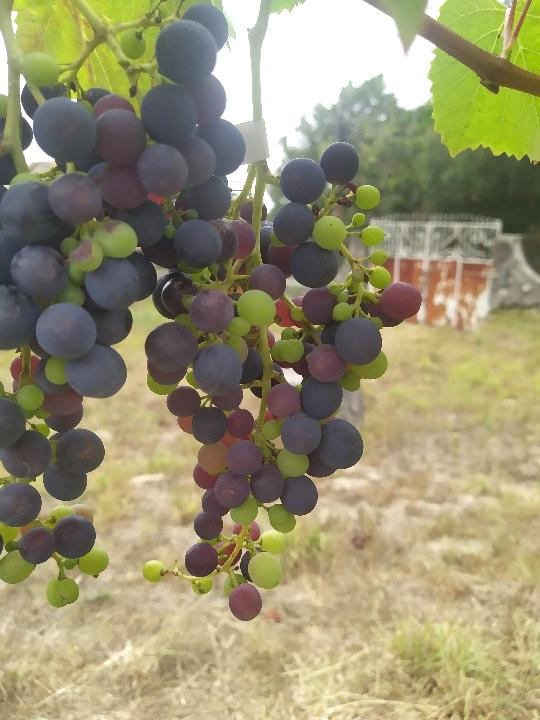grape: (0, 5, 249, 610), (140, 136, 426, 625)
